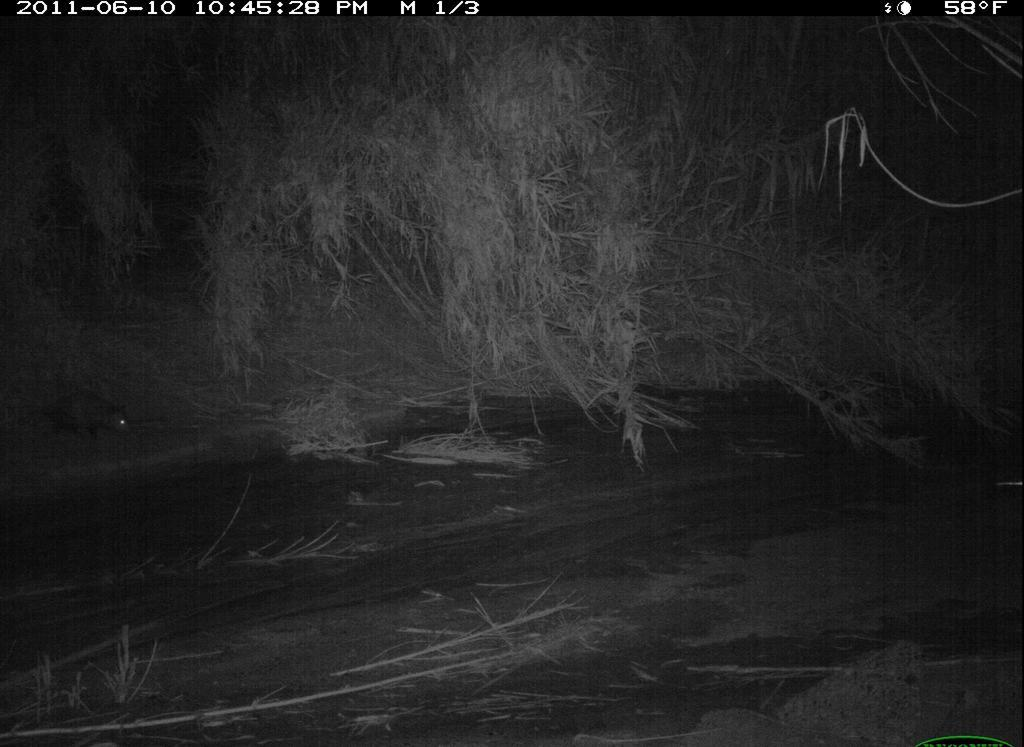opossum: (15, 364, 148, 463)
